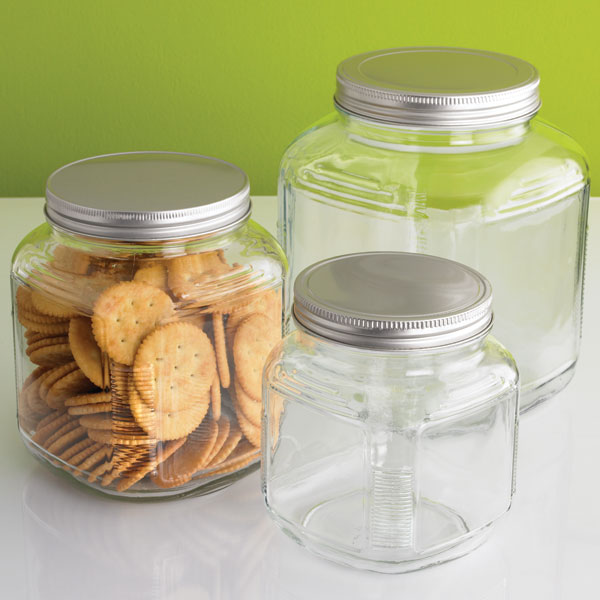Rec_Glass: (262, 32, 590, 430), (13, 129, 296, 504), (257, 248, 523, 586)
